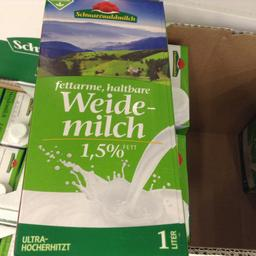milk: (12, 0, 194, 255)
